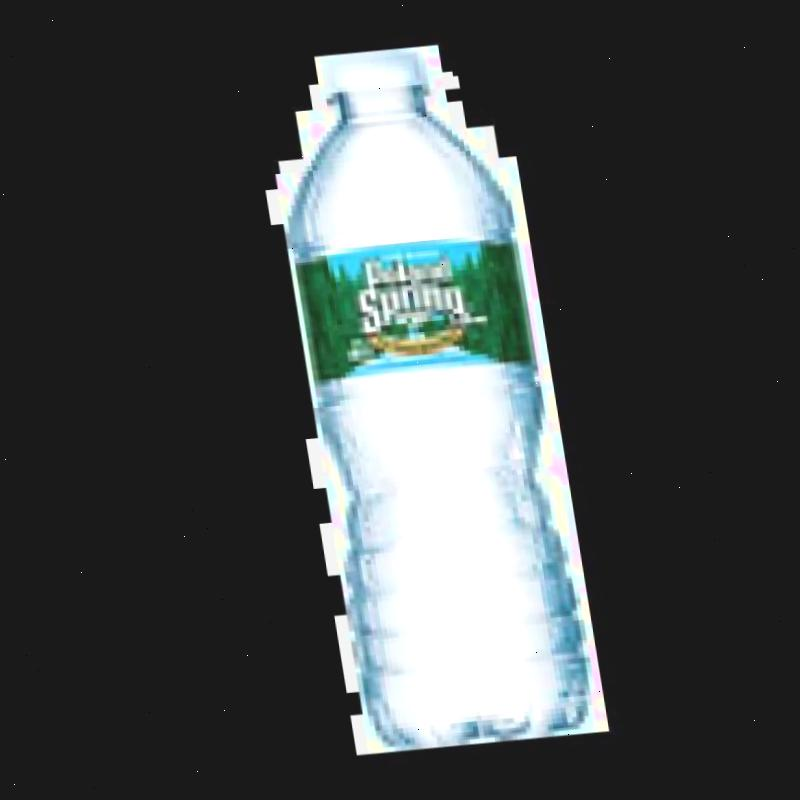botella: (237, 40, 602, 754)
